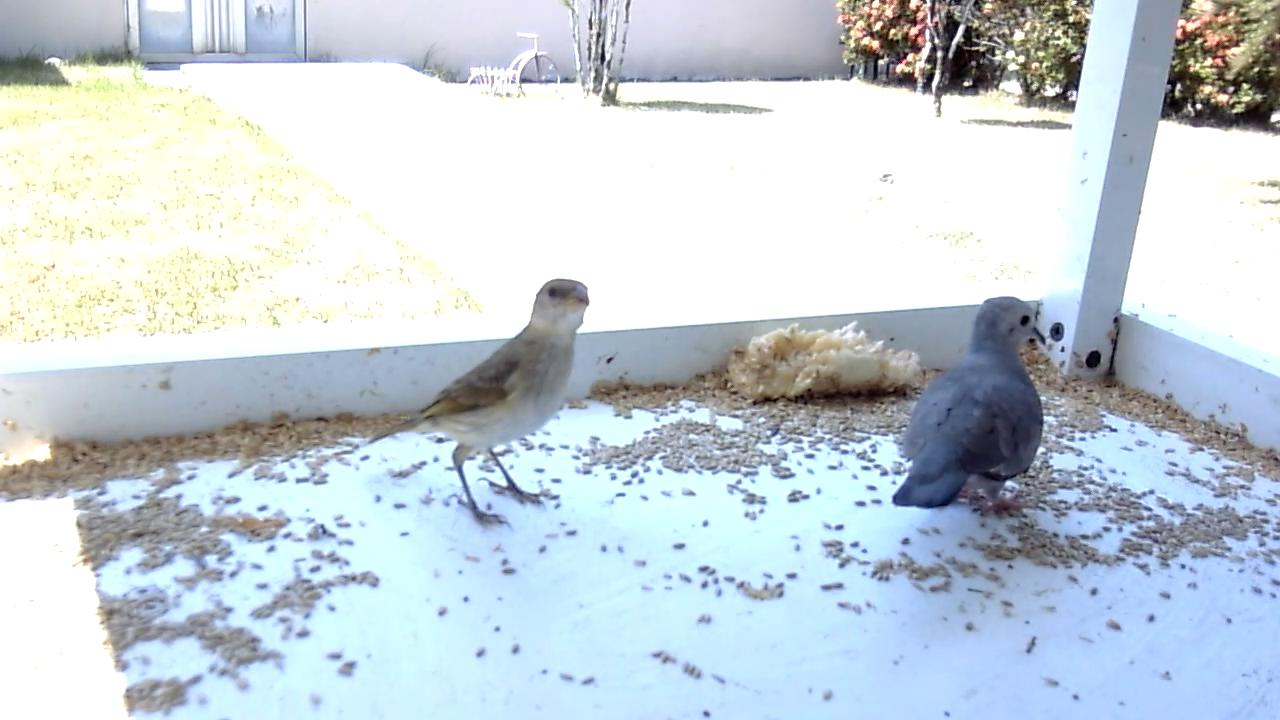canario_do_amazonas: (364, 279, 595, 532)
rolinha: (891, 294, 1047, 521)
